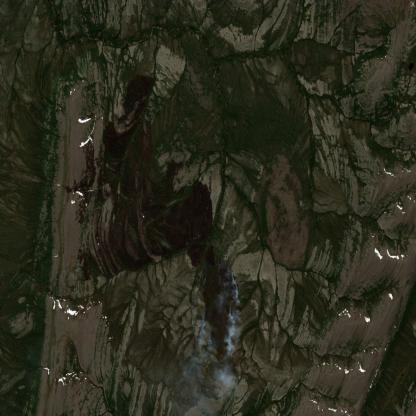fire: (196, 261, 239, 351)
